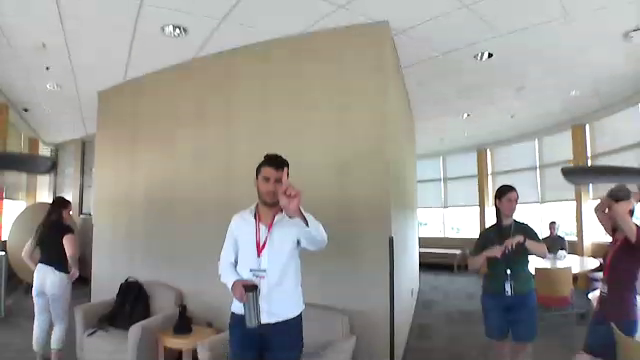up: (274, 163, 306, 214)
